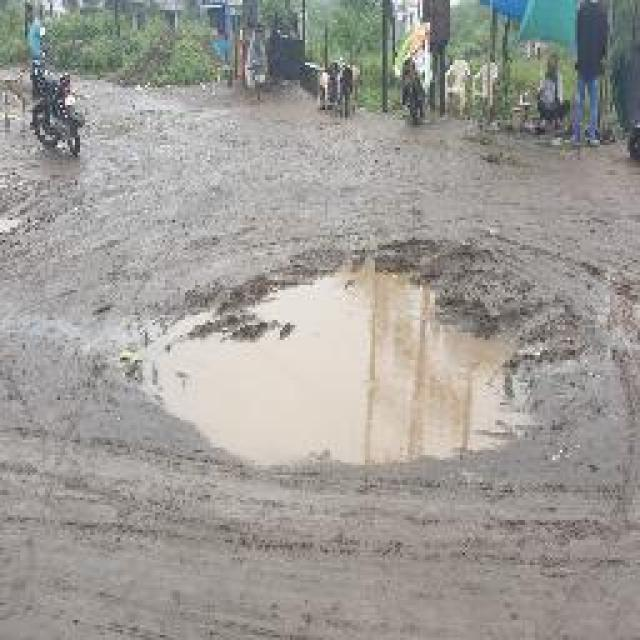puddle: (146, 267, 543, 481)
